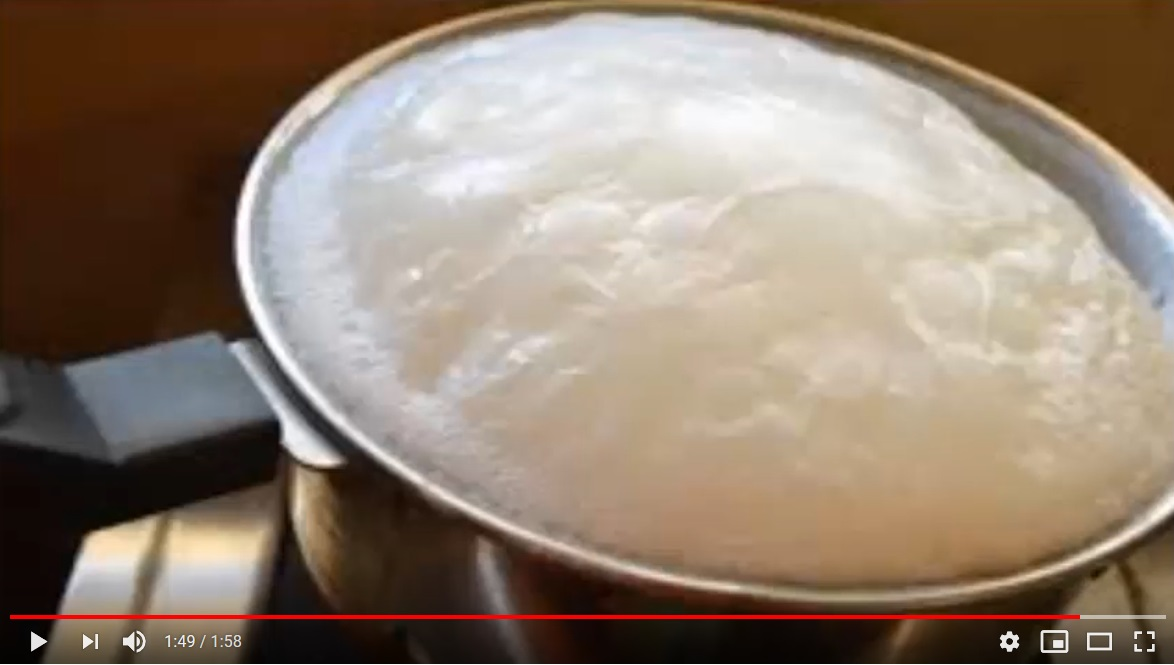Boiled: (197, 5, 1166, 602)
